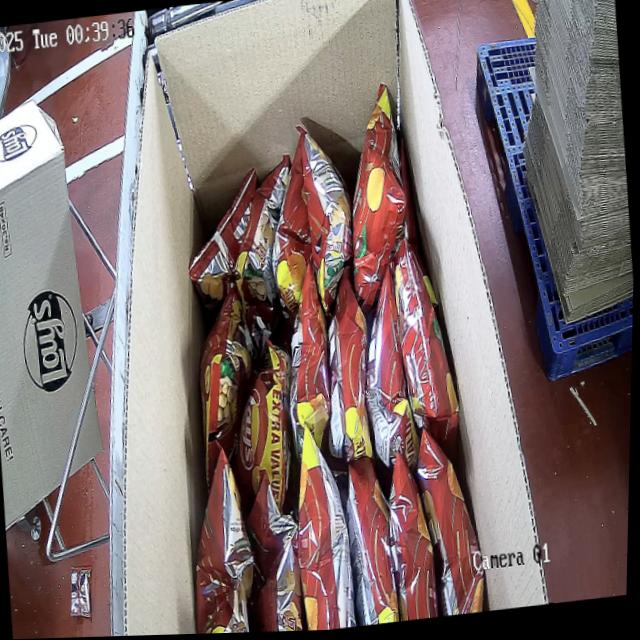MASALA: (150, 74, 498, 635), (74, 380, 82, 386)
